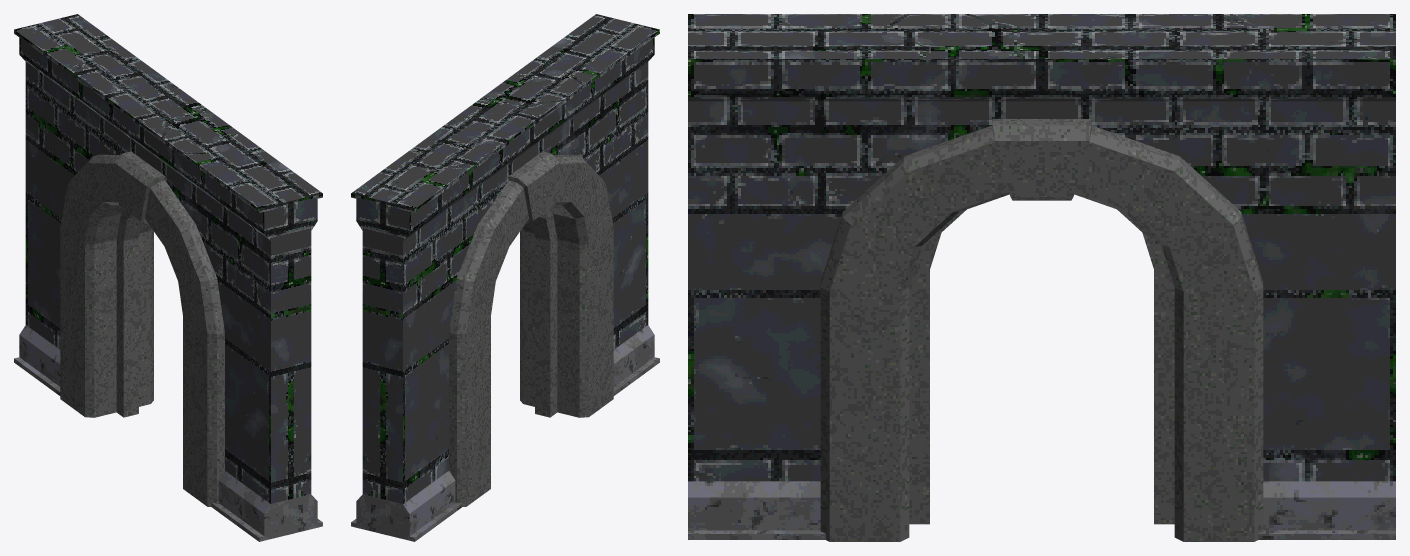
The model's file is wall_door_03.gltf.
3 views of the same model, side by side, from view 1: azimuth 30°, elevation 25°; view 2: azimuth 150°, elevation 25°; view 3: azimuth 270°, elevation 25° (orthographic). The views are drawn at different scales.
Parts seen in each view (by area): view 1: wall_door_03; view 2: wall_door_03; view 3: wall_door_03.
Boxes of the visible parts, x1=… form: wall_door_03: x1=14, y1=14, x2=322, y2=541; wall_door_03: x1=351, y1=14, x2=659, y2=541; wall_door_03: x1=688, y1=14, x2=1395, y2=541.
Bounding box in the file's own units: 0.7245 × 3 × 4.
1 material, 1 textured.
